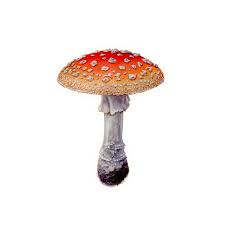Amanita muscaria: (48, 35, 170, 194)
